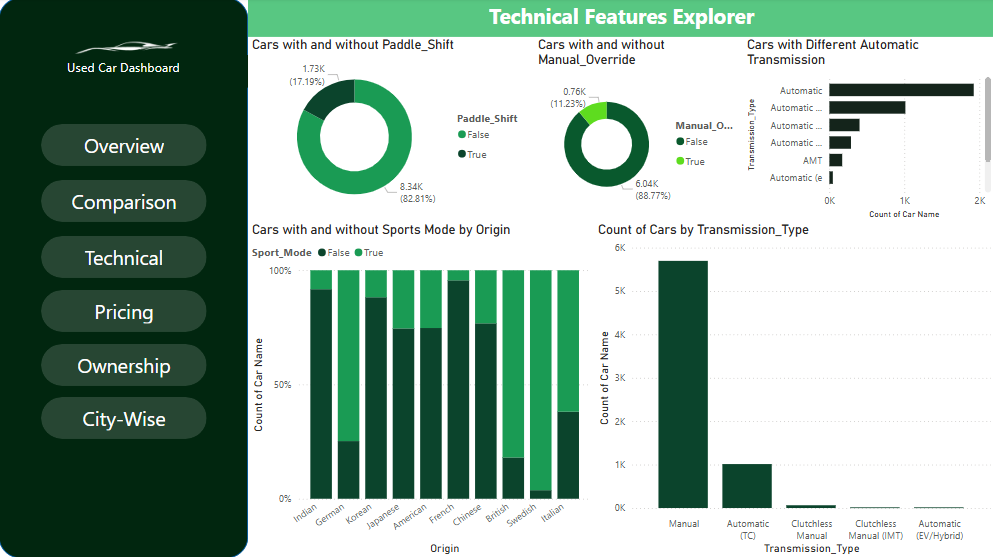

Layout of this report page (visuals, bound fields, positions):
{"tool":"powerbi","page":{"name":"Technical","canvas":[1280,720],"ordinal":3},"visuals":[{"type":"shape","box":[0,0,320,719.7],"z":0},{"type":"actionButton","box":[54,161.9,213.3,54],"z":1000},{"type":"actionButton","box":[54,233.9,213.3,54],"z":2000},{"type":"actionButton","box":[54,305.9,213.3,54],"z":3000},{"type":"actionButton","box":[54,375.3,213.3,54],"z":4000},{"type":"actionButton","box":[54,444.7,213.3,54],"z":5000},{"type":"actionButton","box":[54,512.8,213.3,54],"z":6000},{"type":"textbox","box":[320,0,960,50],"z":7000},{"type":"donutChart","title":"Cars with and without Paddle_Shift","fields":{"Category":["Worksheet.Paddle_Shift"],"Y":["CountNonNull(Worksheet.Car Name)"]},"box":[320,50.1,367.6,237.8],"z":8000},{"type":"hundredPercentStackedColumnChart","title":"Cars with and without Sports Mode by Origin","fields":{"Category":["Worksheet.Origin"],"Y":["CountNonNull(Worksheet.Car Name)"],"Series":["Worksheet.Sport_Mode"]},"box":[320,288,445,432],"z":9000},{"type":"columnChart","title":"Count of Cars by Transmission_Type","fields":{"Category":["Worksheet.Transmission_Type"],"Y":["CountNonNull(Worksheet.Car Name)"]},"box":[764.7,287.9,515.3,431.8],"z":10000},{"type":"donutChart","title":"Cars with and without Manual_Override","fields":{"Category":["Worksheet.Manual_Override"],"Y":["CountNonNull(Worksheet.Brand)"]},"box":[687.6,50.1,268.6,237.8],"z":11000},{"type":"barChart","title":"Cars with Different Automatic Transmission","fields":{"Category":["Worksheet.Transmission_Type"],"Y":["CountNonNull(Worksheet.Car Name)"]},"box":[956.1,50.1,323.9,237.8],"z":12000},{"type":"image","box":[0,0,320,125.9],"z":12001},{"type":"textbox","box":[0,73.3,320,42.4],"z":12002}]}

Visuals, with their boxes in screenshot pixels (x1, y1, x2, y2), scaled from the page's 1280x720 canvas onto the 993x557 screenshot:
shape: rect(0, 0, 248, 556)
actionButton: rect(42, 125, 207, 167)
actionButton: rect(42, 181, 207, 223)
actionButton: rect(42, 237, 207, 278)
actionButton: rect(42, 290, 207, 332)
actionButton: rect(42, 344, 207, 386)
actionButton: rect(42, 397, 207, 438)
textbox: rect(248, 0, 992, 39)
"Cars with and without Paddle_Shift" donutChart: rect(248, 39, 533, 223)
"Cars with and without Sports Mode by Origin" hundredPercentStackedColumnChart: rect(248, 223, 593, 556)
"Count of Cars by Transmission_Type" columnChart: rect(593, 223, 992, 556)
"Cars with and without Manual_Override" donutChart: rect(533, 39, 742, 223)
"Cars with Different Automatic Transmission" barChart: rect(742, 39, 992, 223)
image: rect(0, 0, 248, 97)
textbox: rect(0, 57, 248, 90)
